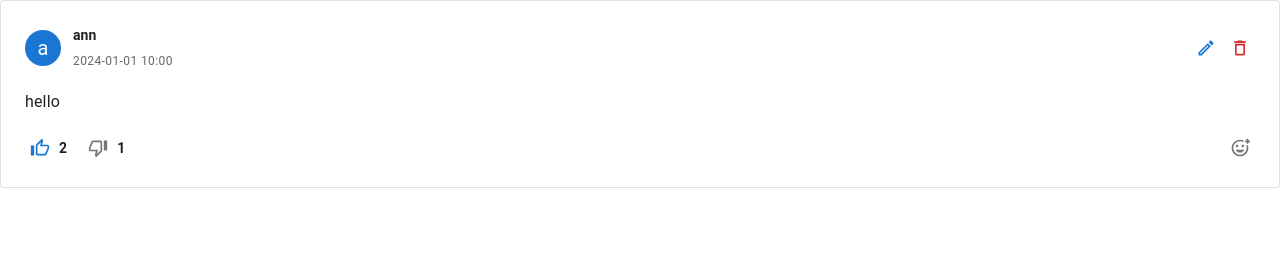
Test: edits and saves
Click the button with test id "post-edit-btn".
click(1206, 48)  # box [1191, 33, 1221, 63]
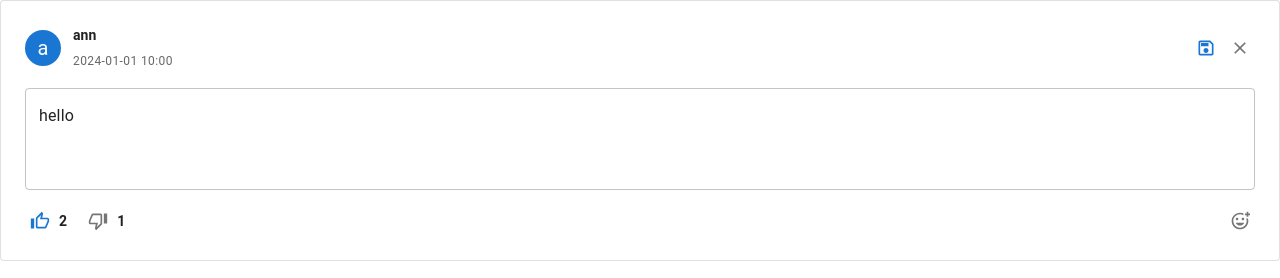
Replace the text in the text box with "changed" at coordinates (640, 139), box [39, 104, 1241, 173]
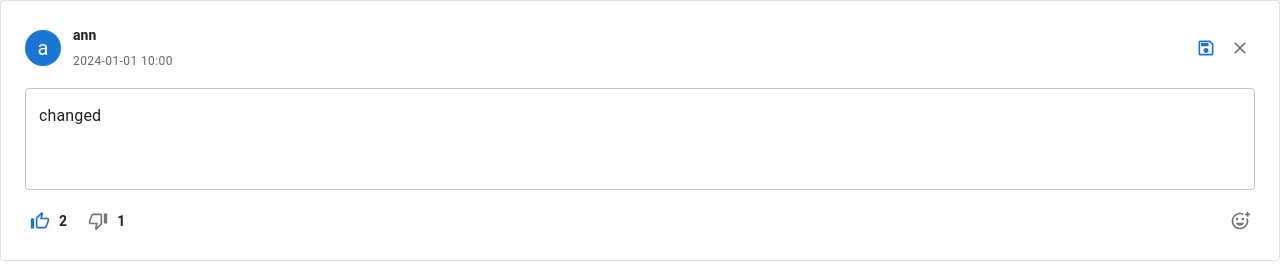
Click the button with test id "post-save-btn".
click(1206, 48)  # box [1191, 33, 1221, 63]
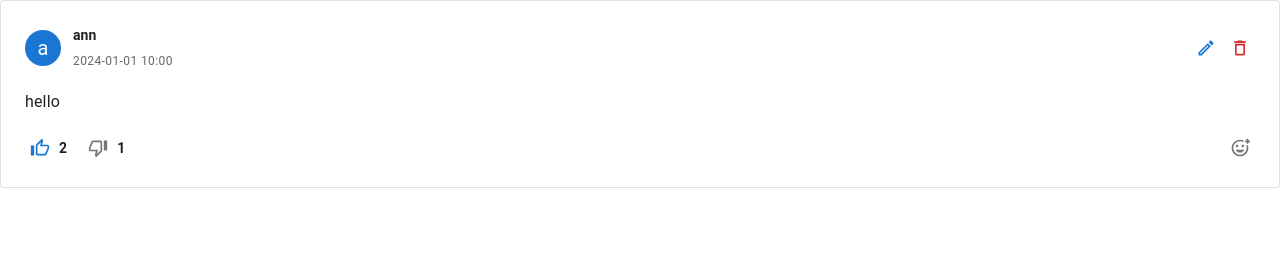
Check: the element with test id "post-edit-input" is gone
